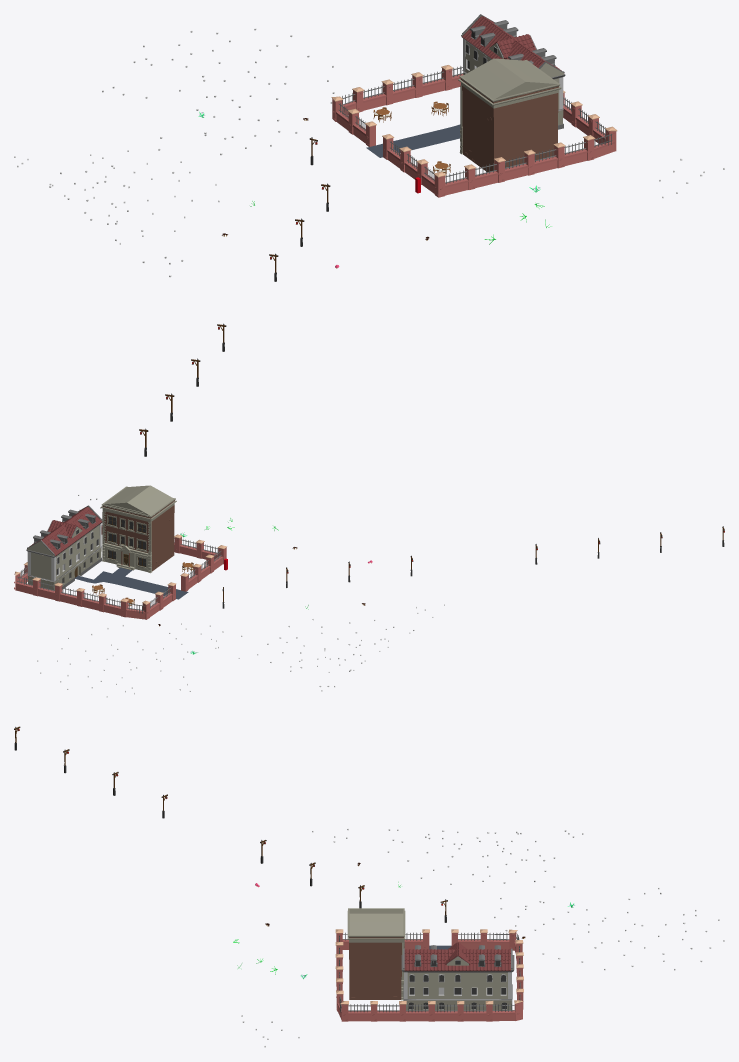
File: chunk_2_2.glb
3 renders of one model, top to bottom at view 1: azimuth 30°, elevation 25°; view 2: azimuth 150°, elevation 25°; view 3: azimuth 270°, elevation 25°, orthographic. The views are drawn at different scales.
Visible parts, largest first — view 1: FencePiece, Building3_Big, Building1_Large, Cube; view 2: Building3_Big, Building1_Large, FencePiece, Cube; view 3: Building1_Large, FencePiece, Building3_Big.
Part boxes in pixels (x1=…): FencePiece: x1=331, y1=65, x2=617, y2=197; Building3_Big: x1=458, y1=58, x2=561, y2=171; Building1_Large: x1=461, y1=14, x2=565, y2=129; Cube: x1=366, y1=124, x2=460, y2=157; Building3_Big: x1=100, y1=485, x2=176, y2=573; Building1_Large: x1=26, y1=505, x2=102, y2=590; FencePiece: x1=14, y1=525, x2=226, y2=619; Cube: x1=75, y1=567, x2=188, y2=599; Building1_Large: x1=401, y1=942, x2=514, y2=1010; FencePiece: x1=335, y1=929, x2=523, y2=1021; Building3_Big: x1=347, y1=908, x2=405, y2=1000.
Size of the model in its own units: 111 by 12.66 by 111.
